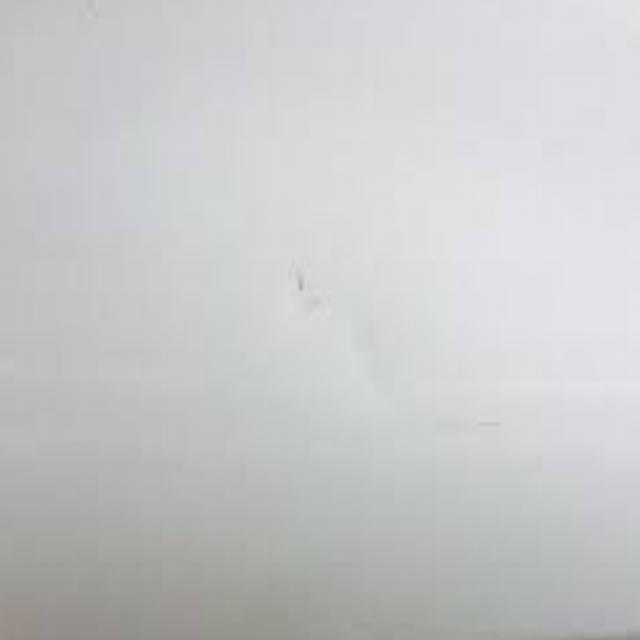dents: (274, 255, 416, 403)
